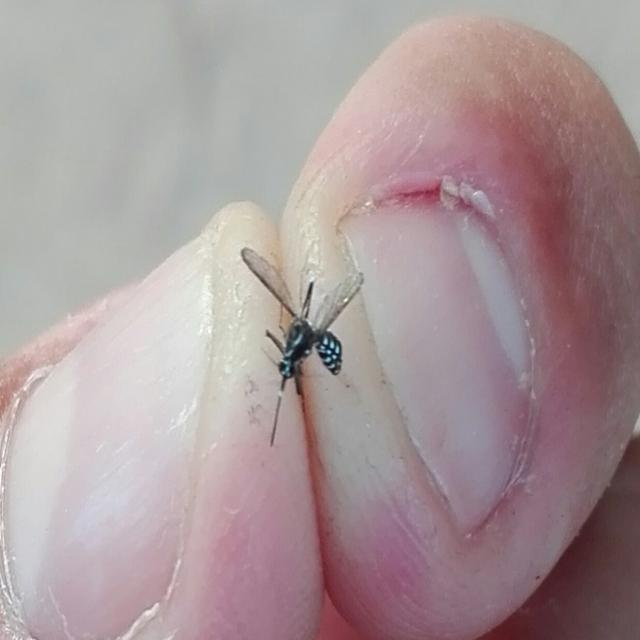albopictus: (240, 240, 360, 457)
